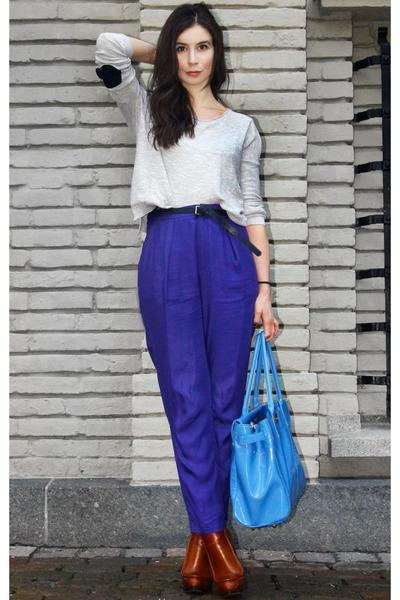sweater: (89, 33, 264, 233)
trousers: (132, 202, 261, 537)
